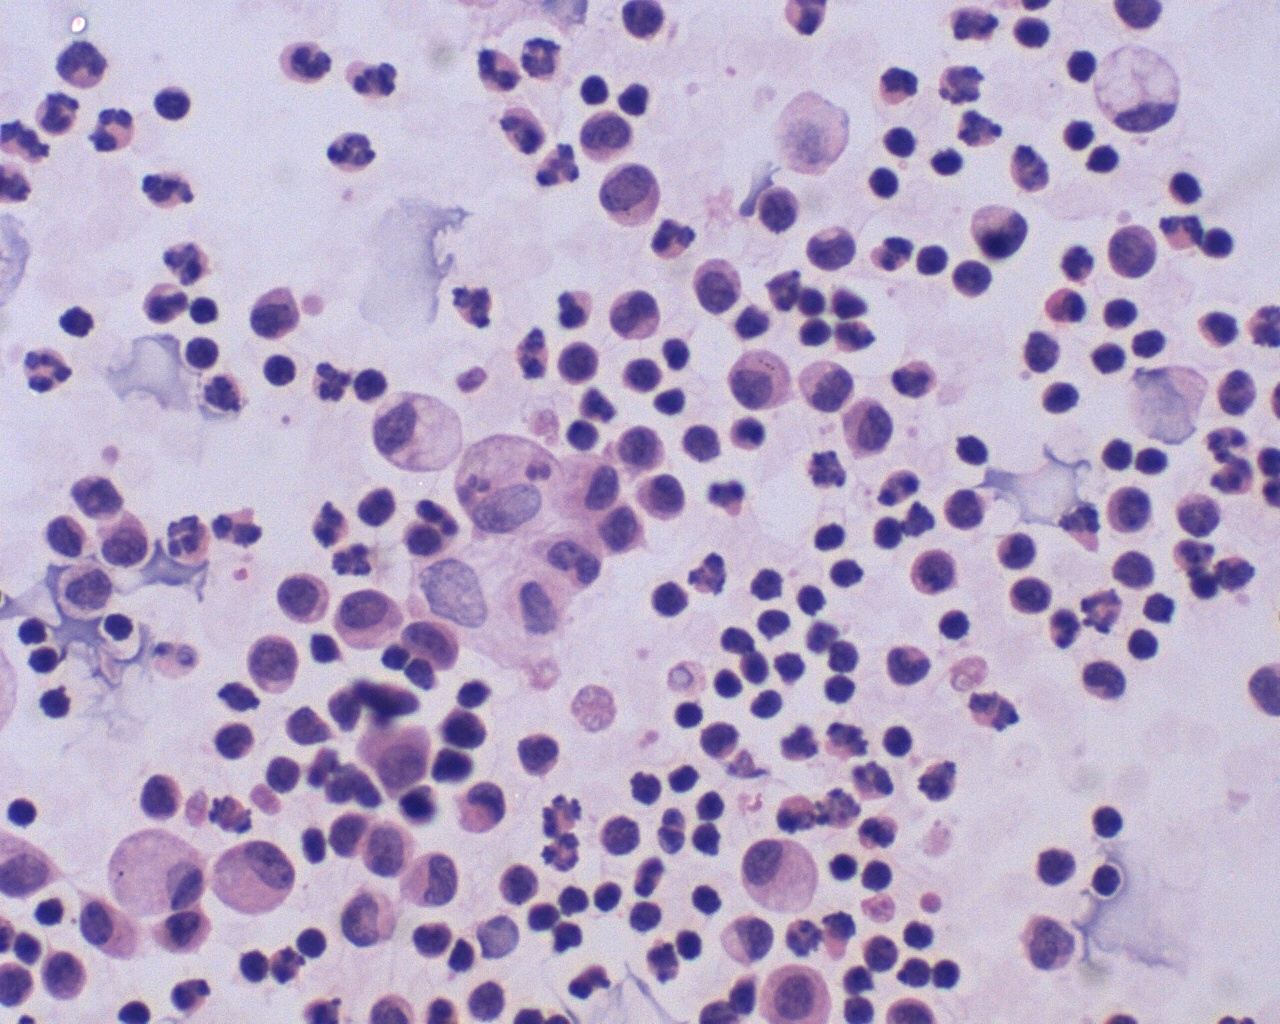ab: (354, 719, 434, 798), (591, 156, 677, 228), (684, 250, 750, 322), (394, 612, 466, 676), (243, 625, 304, 699), (338, 884, 399, 956), (838, 391, 897, 465), (1103, 216, 1164, 284), (241, 282, 305, 346), (794, 353, 858, 416), (1100, 481, 1158, 540), (1173, 482, 1231, 540), (614, 420, 669, 472)
histo: (96, 820, 215, 923), (1091, 39, 1187, 138), (367, 386, 466, 478), (200, 833, 299, 925)
lymph: (1086, 800, 1138, 846), (1006, 11, 1056, 59), (1164, 165, 1213, 207), (1123, 619, 1166, 665), (909, 239, 956, 281), (260, 349, 301, 396), (288, 923, 330, 962), (708, 667, 751, 703), (869, 161, 903, 205), (879, 727, 914, 765)
meso: (735, 835, 828, 913), (326, 580, 408, 656), (721, 347, 799, 414), (761, 957, 839, 1024)
neutro: (18, 338, 78, 403), (323, 122, 386, 183), (467, 45, 528, 98), (87, 106, 144, 160), (277, 36, 334, 86), (546, 286, 599, 338), (1056, 236, 1101, 286), (1043, 604, 1085, 655)
